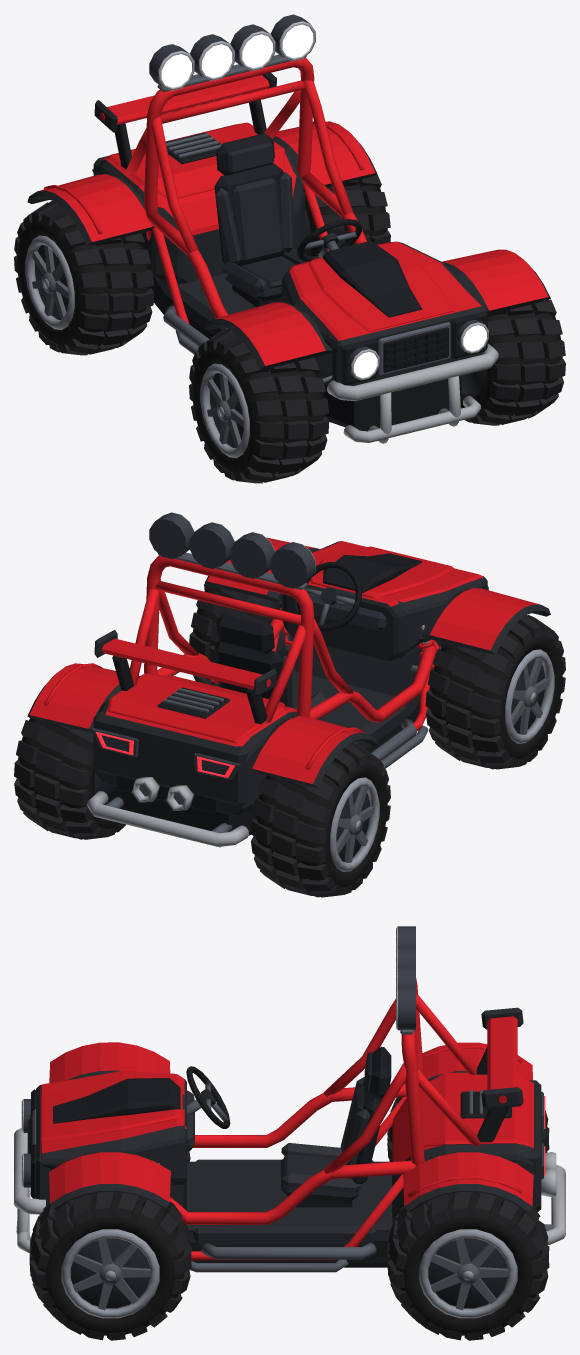
File: OffroadKart_Polished.glb
3 views of the same model, one above another, from view 1: azimuth 30°, elevation 25°; view 2: azimuth 150°, elevation 25°; view 3: azimuth 270°, elevation 25° (orthographic). The views are drawn at different scales.
Parts seen in each view (by area): view 1: Wheel_FR, Wheel_RR, Wheel_FL, Rear_Engine_Deck, Front_Hood, Right_Front_Fender, Right_Rear_Fender, Undercarriage, Racing_Red_Hood_Stripe, Left_Front_Fender, Charcoal_Center_Cowl, Rear_Roll_Hoop (+35 smaller); view 2: Wheel_FR, Wheel_RR, Wheel_RL, Front_Hood, Rear_CharcoalFascia, Undercarriage, Rear_Red_Deck, Right_Rear_Fender, Right_Front_Fender, Left_Rear_Fender, Rear_Roll_Hoop, Spoiler_Red_Airfoil (+32 smaller); view 3: Wheel_FL, Wheel_RL, Cockpit_Floor, Front_Hood, Left_Rear_Fender, Left_Front_Fender, Rear_Red_Deck, Charcoal_Center_Cowl, Right_Front_Fender, Left_Side_Protection, Left_Lower_Side_Panel, Racing_Red_Hood_Stripe (+28 smaller).
Boxes of the visible parts, left/top/right/bottom form: Wheel_FR: left=189, top=329, right=329, bottom=483; Wheel_RR: left=14, top=201, right=154, bottom=355; Wheel_FL: left=460, top=299, right=565, bottom=425; Rear_Engine_Deck: left=94, top=141, right=304, bottom=283; Front_Hood: left=281, top=241, right=485, bottom=348; Right_Front_Fender: left=205, top=302, right=332, bottom=369; Right_Rear_Fender: left=27, top=174, right=154, bottom=245; Undercarriage: left=151, top=277, right=461, bottom=431; Racing_Red_Hood_Stripe: left=308, top=244, right=453, bottom=332; Left_Front_Fender: left=442, top=249, right=550, bottom=314; Charcoal_Center_Cowl: left=323, top=240, right=422, bottom=317; Rear_Roll_Hoop: left=144, top=57, right=314, bottom=240; Wheel_FR: left=425, top=615, right=565, bottom=769; Wheel_RR: left=250, top=743, right=390, bottom=897; Wheel_RL: left=14, top=717, right=125, bottom=839; Front_Hood: left=281, top=541, right=486, bottom=661; Rear_CharcoalFascia: left=93, top=711, right=248, bottom=805; Undercarriage: left=115, top=640, right=440, bottom=847; Rear_Red_Deck: left=108, top=673, right=284, bottom=742; Right_Rear_Fender: left=248, top=716, right=377, bottom=787; Right_Front_Fender: left=421, top=588, right=550, bottom=654; Left_Rear_Fender: left=27, top=663, right=139, bottom=733; Rear_Roll_Hoop: left=144, top=555, right=314, bottom=716; Spoiler_Red_Airfoil: left=101, top=638, right=262, bottom=689; Wheel_FL: left=29, top=1192, right=191, bottom=1340; Wheel_RL: left=387, top=1192, right=549, bottom=1340; Cockpit_Floor: left=183, top=1161, right=391, bottom=1232; Front_Hood: left=40, top=1071, right=186, bottom=1184; Left_Rear_Fender: left=403, top=1151, right=533, bottom=1212; Left_Front_Fender: left=49, top=1151, right=170, bottom=1209; Rear_Red_Deck: left=419, top=1072, right=529, bottom=1146; Charcoal_Center_Cowl: left=53, top=1078, right=180, bottom=1123; Right_Front_Fender: left=49, top=1042, right=170, bottom=1082; Left_Side_Protection: left=170, top=1160, right=415, bottom=1224; Left_Lower_Side_Panel: left=193, top=1227, right=376, bottom=1245; Racing_Red_Hood_Stripe: left=41, top=1079, right=182, bottom=1140.
Bounding box in the file's own units: 8 × 7.48 × 11.97.
Materials: 4 (1 with a texture image).
